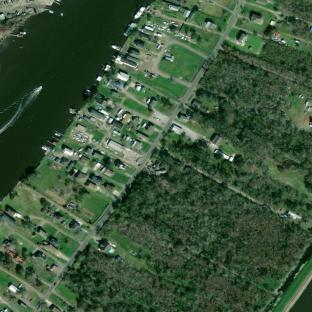Floresta: (60, 46, 312, 312), (258, 41, 312, 85), (279, 0, 312, 21), (291, 20, 312, 41), (0, 0, 0, 0)
